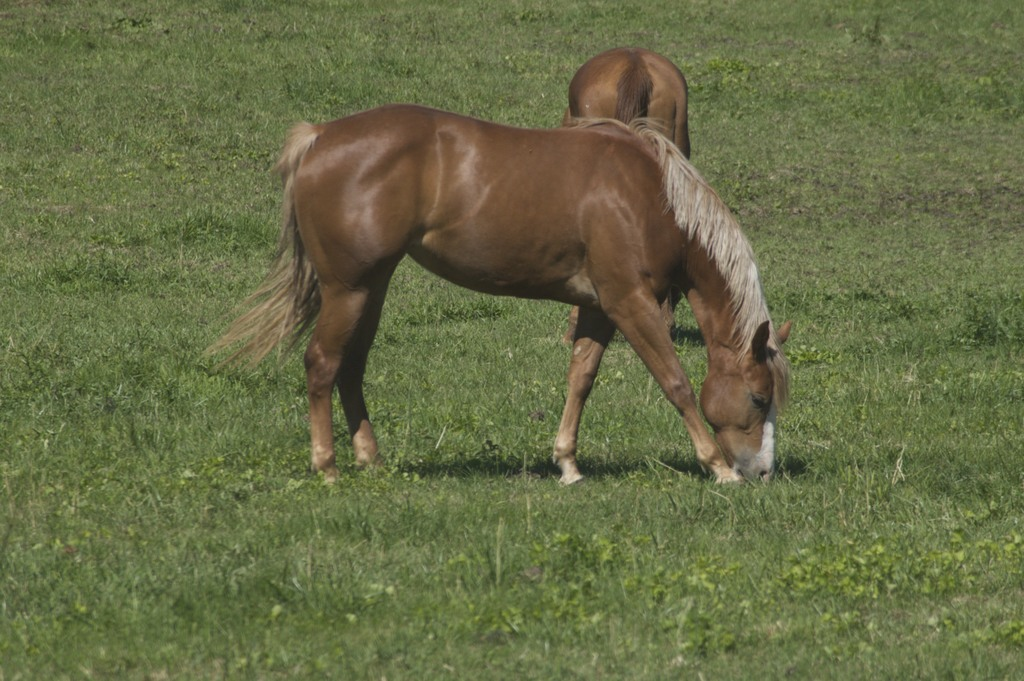horse: (200, 104, 794, 477)
